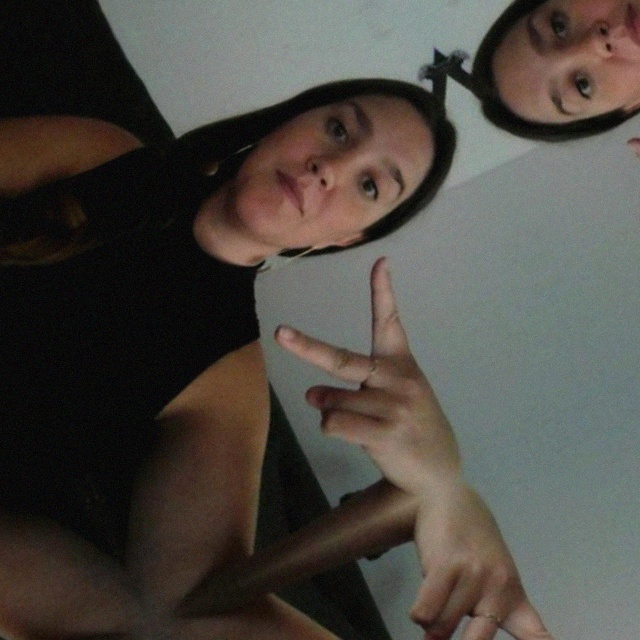Scissors: (622, 79, 640, 352)
